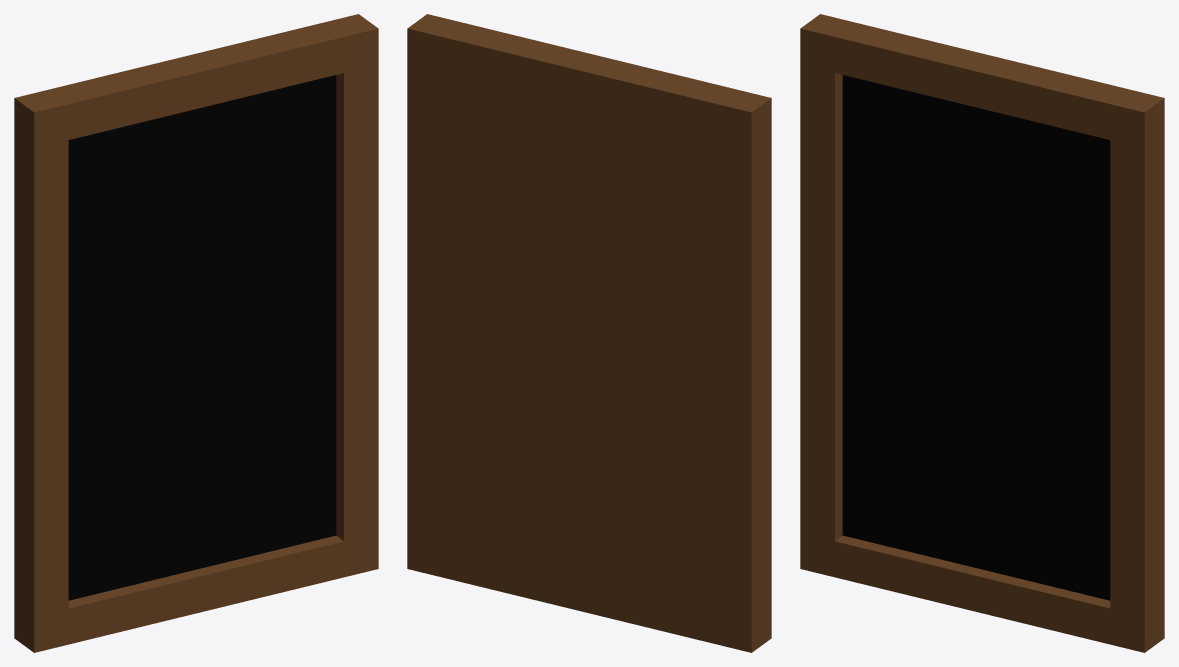
File: Cuadro_Pared03.fbx
3 views of the same model, side by side, from view 1: azimuth 30°, elevation 25°; view 2: azimuth 150°, elevation 25°; view 3: azimuth 330°, elevation 25° (orthographic).
Visible parts, largest first — view 1: Cuadro03; view 2: Cuadro03; view 3: Cuadro03.
Boxes of the visible parts, x1,y1,x2,y2 form: Cuadro03: (14, 14, 378, 652); Cuadro03: (407, 14, 771, 652); Cuadro03: (800, 14, 1164, 652).
Size of the model in its own units: 50 by 75 by 5.
